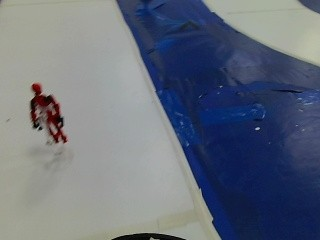pedestrian: (28, 80, 69, 141)
